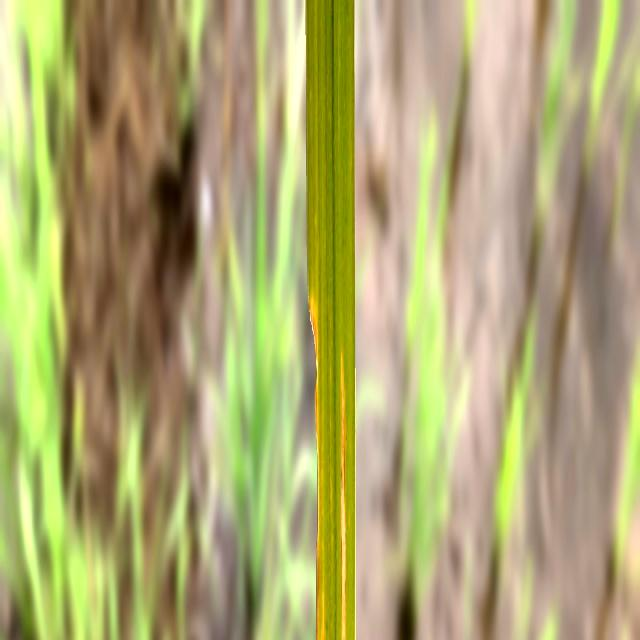BLS: (340, 348, 346, 640)
